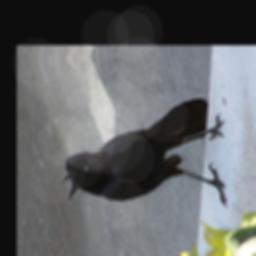Crow: (54, 97, 233, 221)
